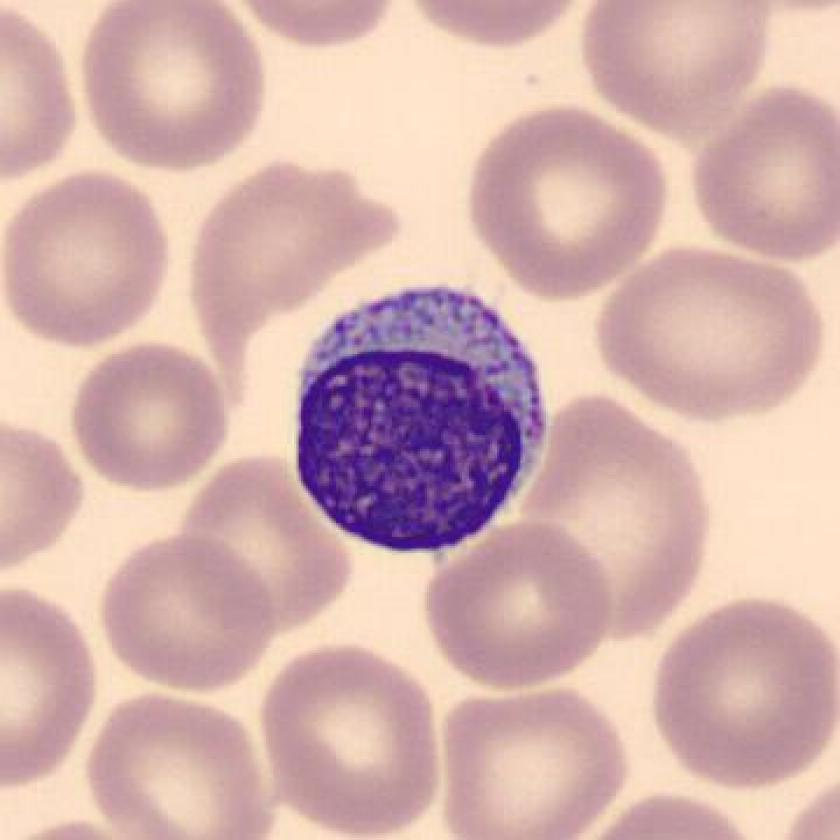lymphocyte: (274, 276, 566, 568)
